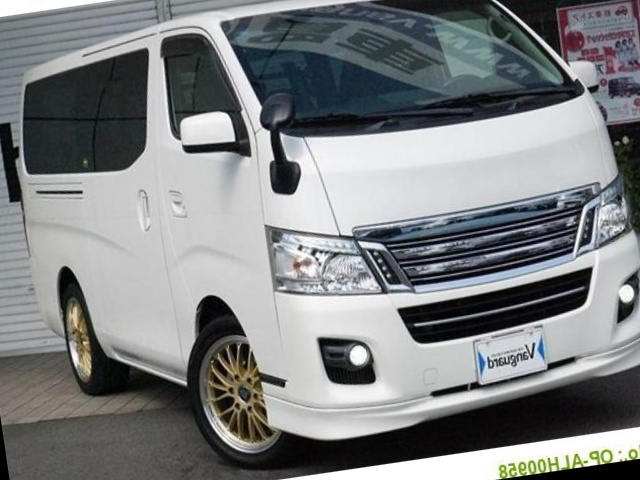van: (0, 0, 640, 473)
